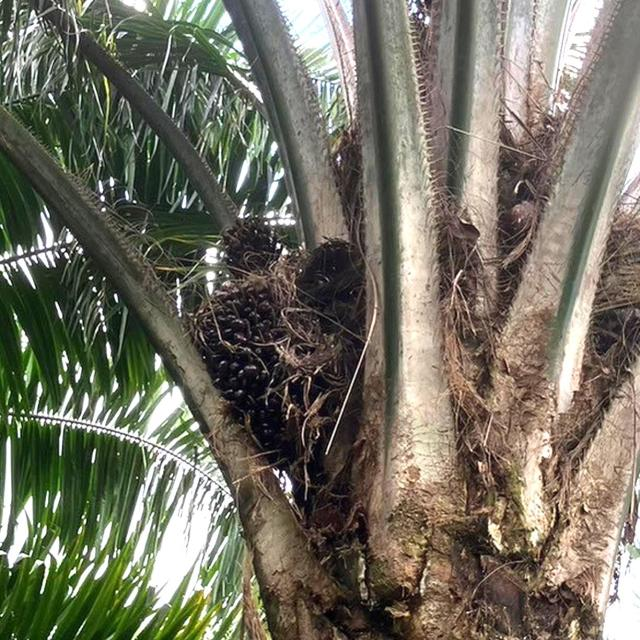ripe: (198, 284, 317, 456)
